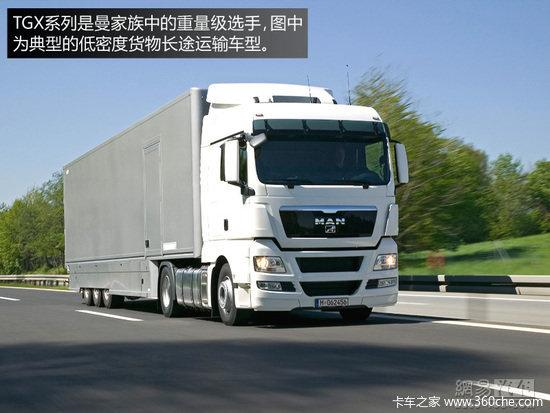truck: (48, 82, 405, 330)
